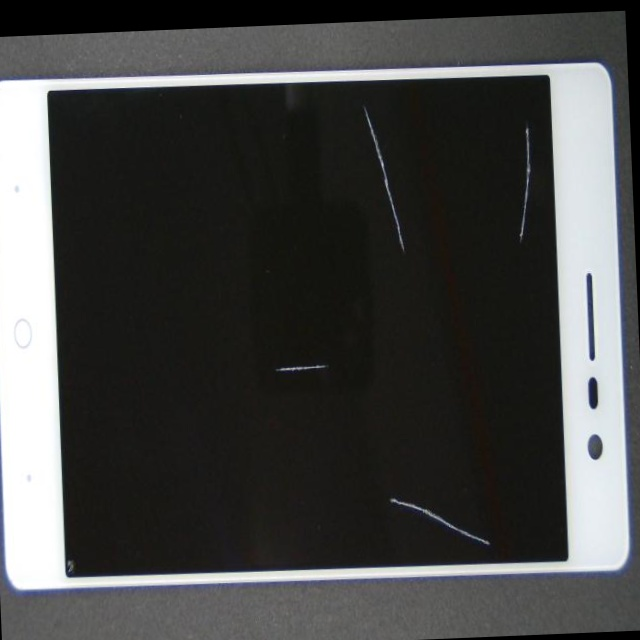scratch: (304, 300, 640, 640), (188, 181, 491, 512), (264, 11, 634, 232), (186, 69, 572, 153)
